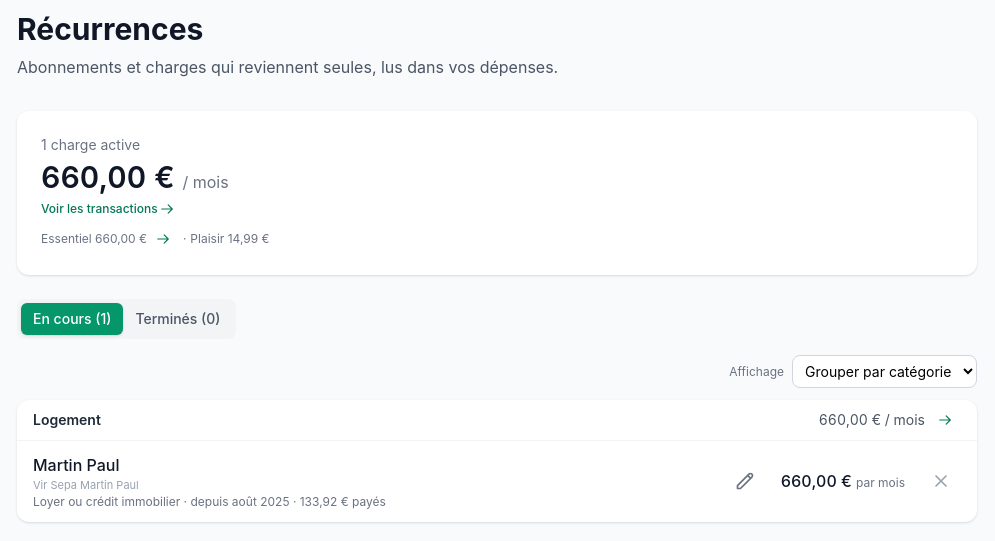
it: RecurrencesPage › renames a series in place
The width and height of the screenshot is (995, 541).
Click the button with test id "rename-recurrence" at x=745, y=481, box x1=725 y1=461 x2=765 y2=501
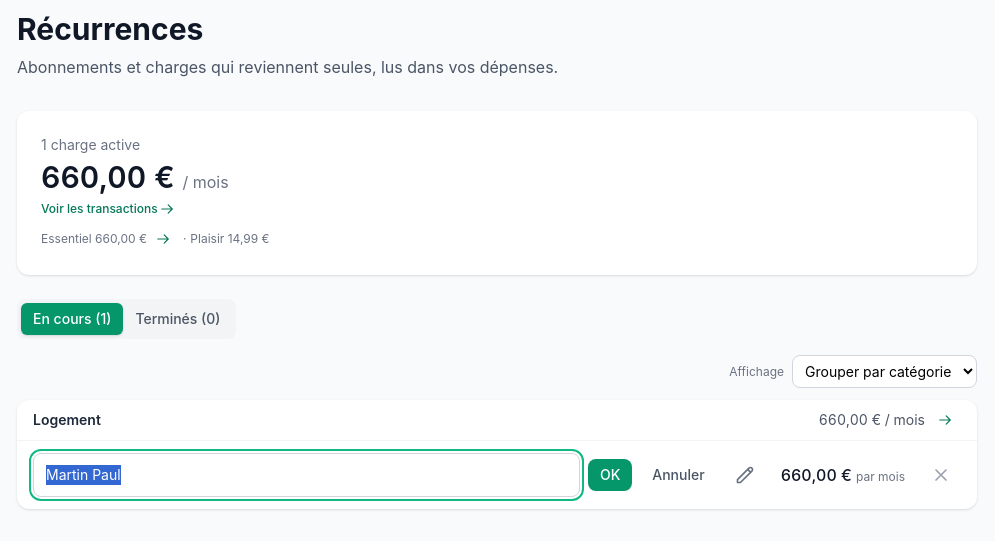
Replace the text in the field with test id "recurrence-name-input" with "Loyer" at x=306, y=475, box x1=33 y1=453 x2=580 y2=497
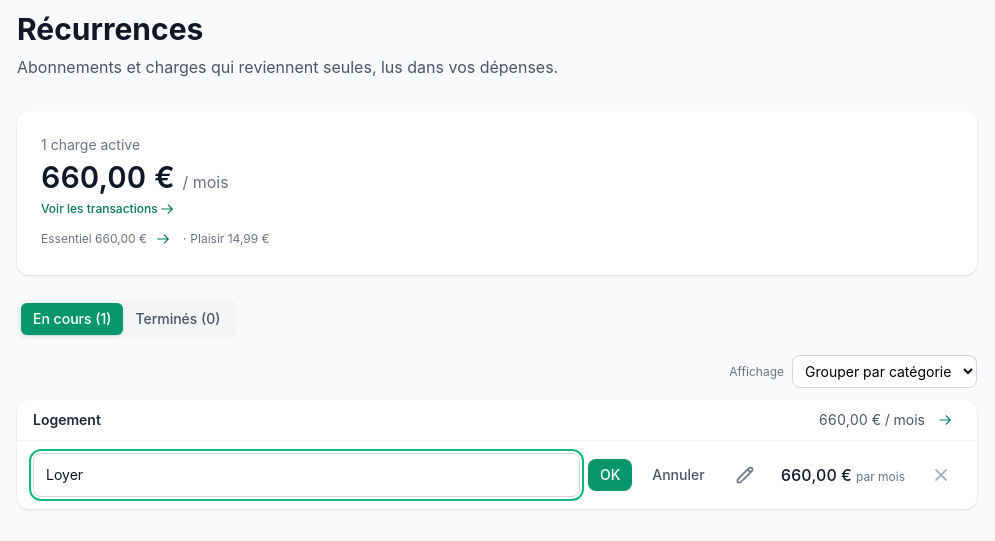
Submit the form with test id "recurrence-name-editor", box x1=33 y1=453 x2=717 y2=497
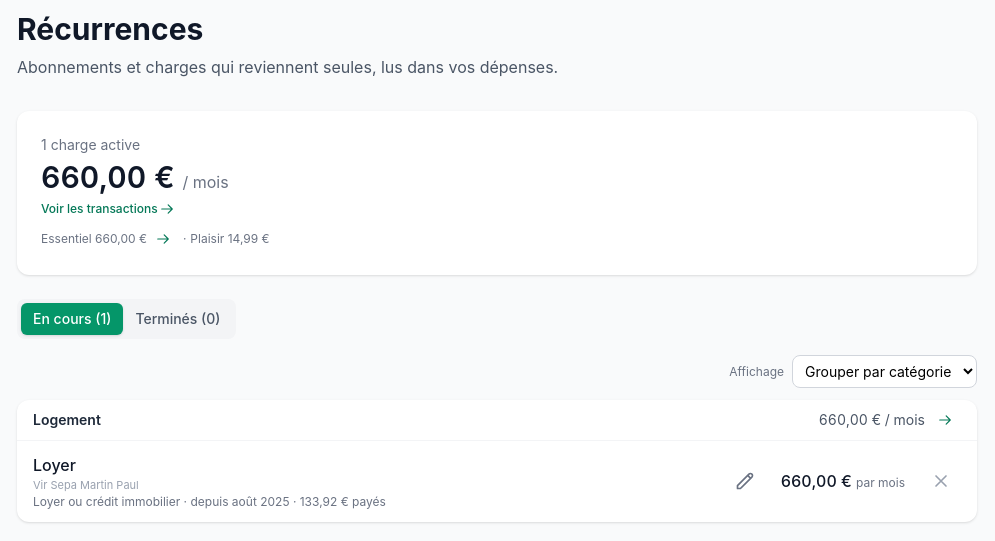
Result: the text with test id "recurrence-name" reads "Loyer" at x1=33 y1=455 x2=76 y2=475
